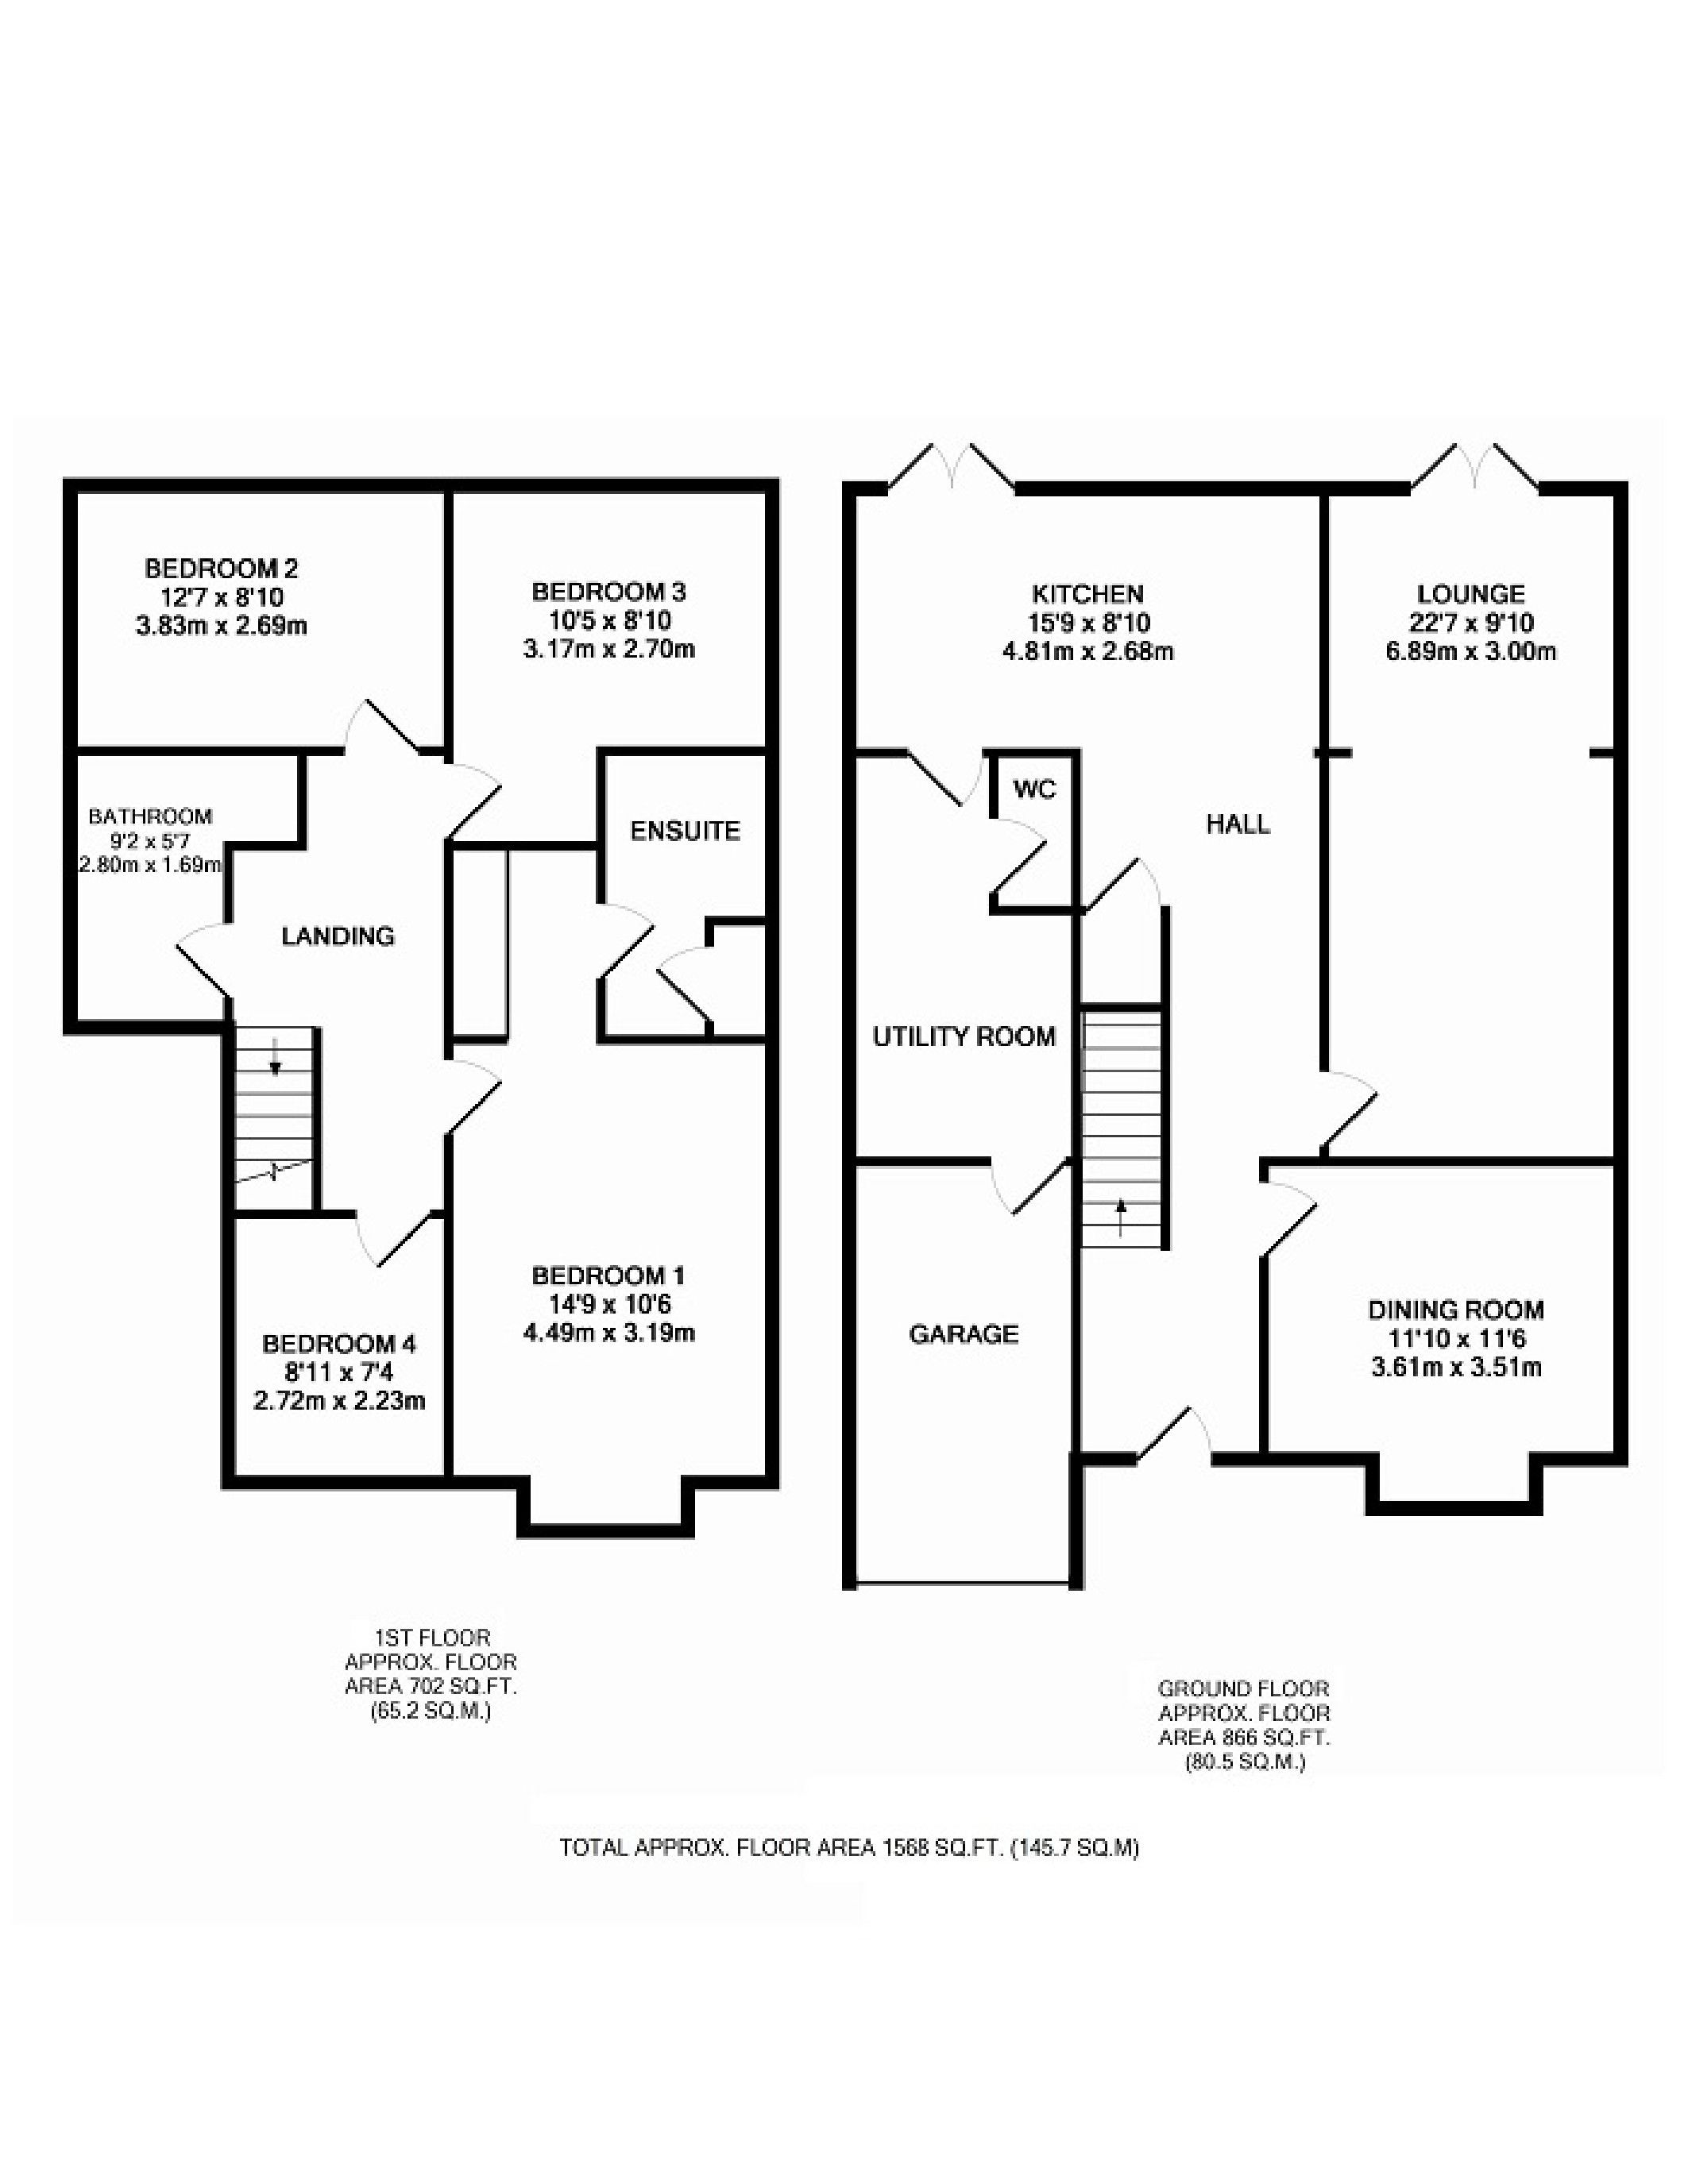wall: (1622, 486, 1633, 1448), (1069, 750, 1080, 1585), (846, 475, 851, 1597), (74, 482, 762, 489), (67, 496, 76, 1032), (782, 498, 785, 1466), (223, 1475, 527, 1482), (1321, 489, 1325, 1071), (502, 1528, 679, 1539), (450, 493, 457, 757), (445, 1138, 450, 1482), (223, 1032, 227, 1471), (851, 1581, 1069, 1588), (64, 745, 328, 750), (1027, 486, 1418, 489), (1262, 1158, 1633, 1161), (1222, 1459, 1365, 1468), (1163, 909, 1167, 1241), (1378, 1501, 1541, 1509), (1537, 1455, 1626, 1466), (683, 1475, 693, 1555), (697, 1468, 771, 1478), (601, 1035, 778, 1039), (449, 837, 601, 840), (846, 1158, 988, 1161), (1530, 1462, 1541, 1505), (90, 1035, 216, 1039), (598, 748, 785, 750), (521, 1486, 525, 1542), (1374, 1466, 1378, 1516)
